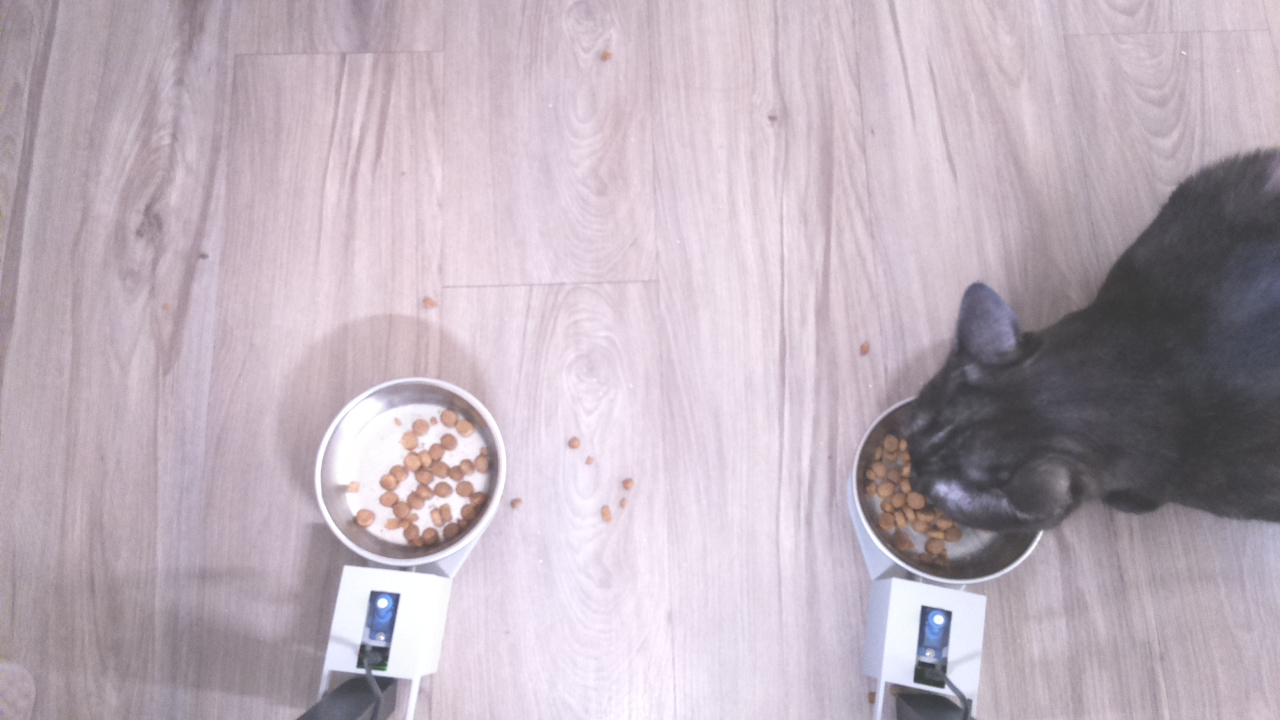open_bowl: (308, 372, 508, 570)
saki_eating: (843, 271, 1082, 599)
